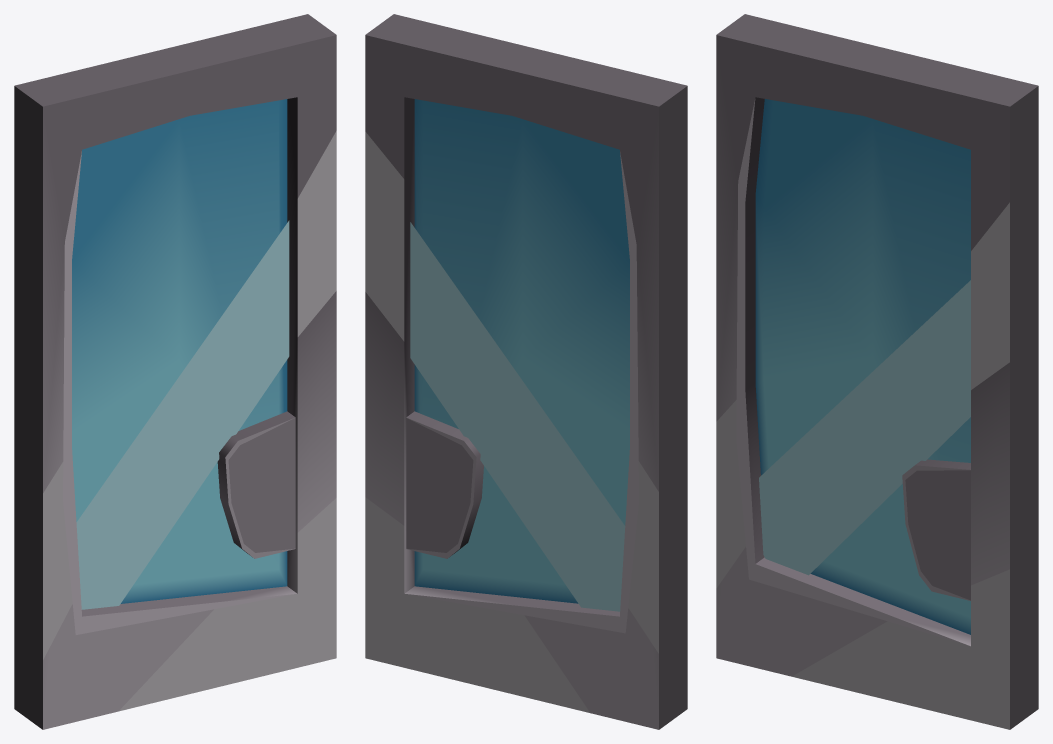
File: CivicDoor.fbx
3 renders of one model, left to right at view 1: azimuth 30°, elevation 25°; view 2: azimuth 150°, elevation 25°; view 3: azimuth 330°, elevation 25°, orthographic.
Visible parts, largest first — view 1: CivicDoor; view 2: CivicDoor; view 3: CivicDoor.
Part boxes in pixels (x1,y1,x2,y2): CivicDoor: (14,14,336,729); CivicDoor: (365,14,687,729); CivicDoor: (716,14,1038,729).
Bounding box in the file's own units: 89.49 × 181 × 15.12.
